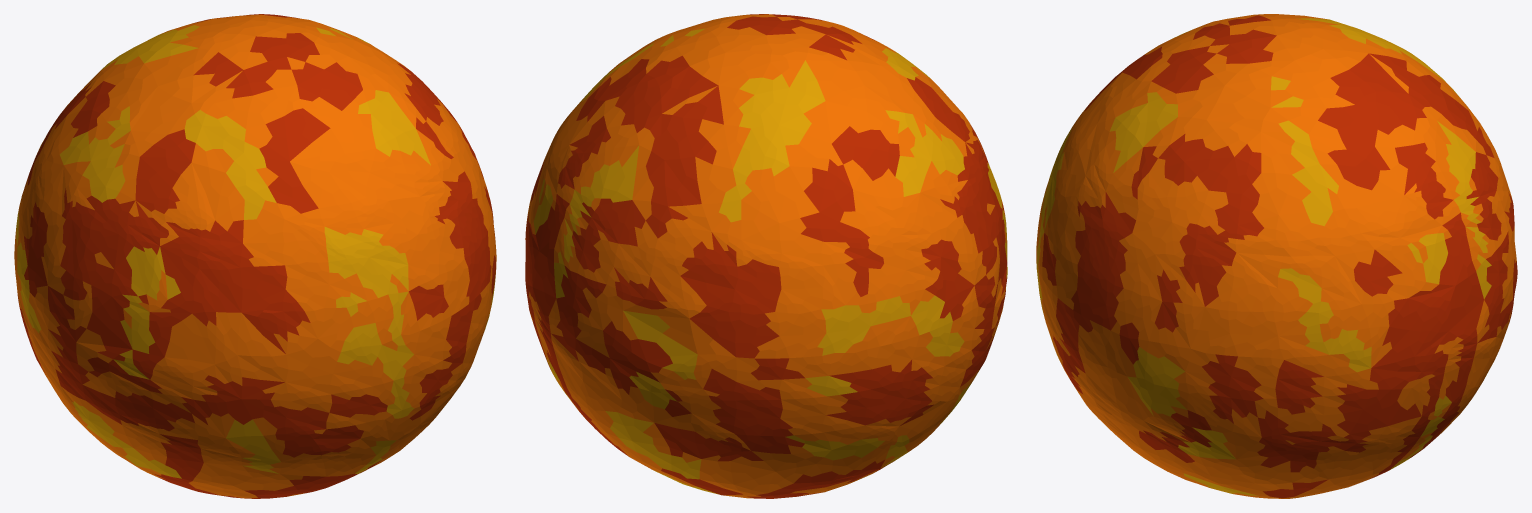
File: Mars.glb
3 renders of one model, left to right at view 1: azimuth 30°, elevation 25°; view 2: azimuth 150°, elevation 25°; view 3: azimuth 270°, elevation 25°, orthographic.
Visible parts, largest first — view 1: Sphere002.001; view 2: Sphere002.001; view 3: Sphere002.001.
Part boxes in pixels (bbox=[...]): Sphere002.001: bbox=[14, 14, 496, 498]; Sphere002.001: bbox=[525, 14, 1007, 498]; Sphere002.001: bbox=[1036, 14, 1517, 498].
Size of the model in its own units: 40.48 by 40.79 by 40.39.
